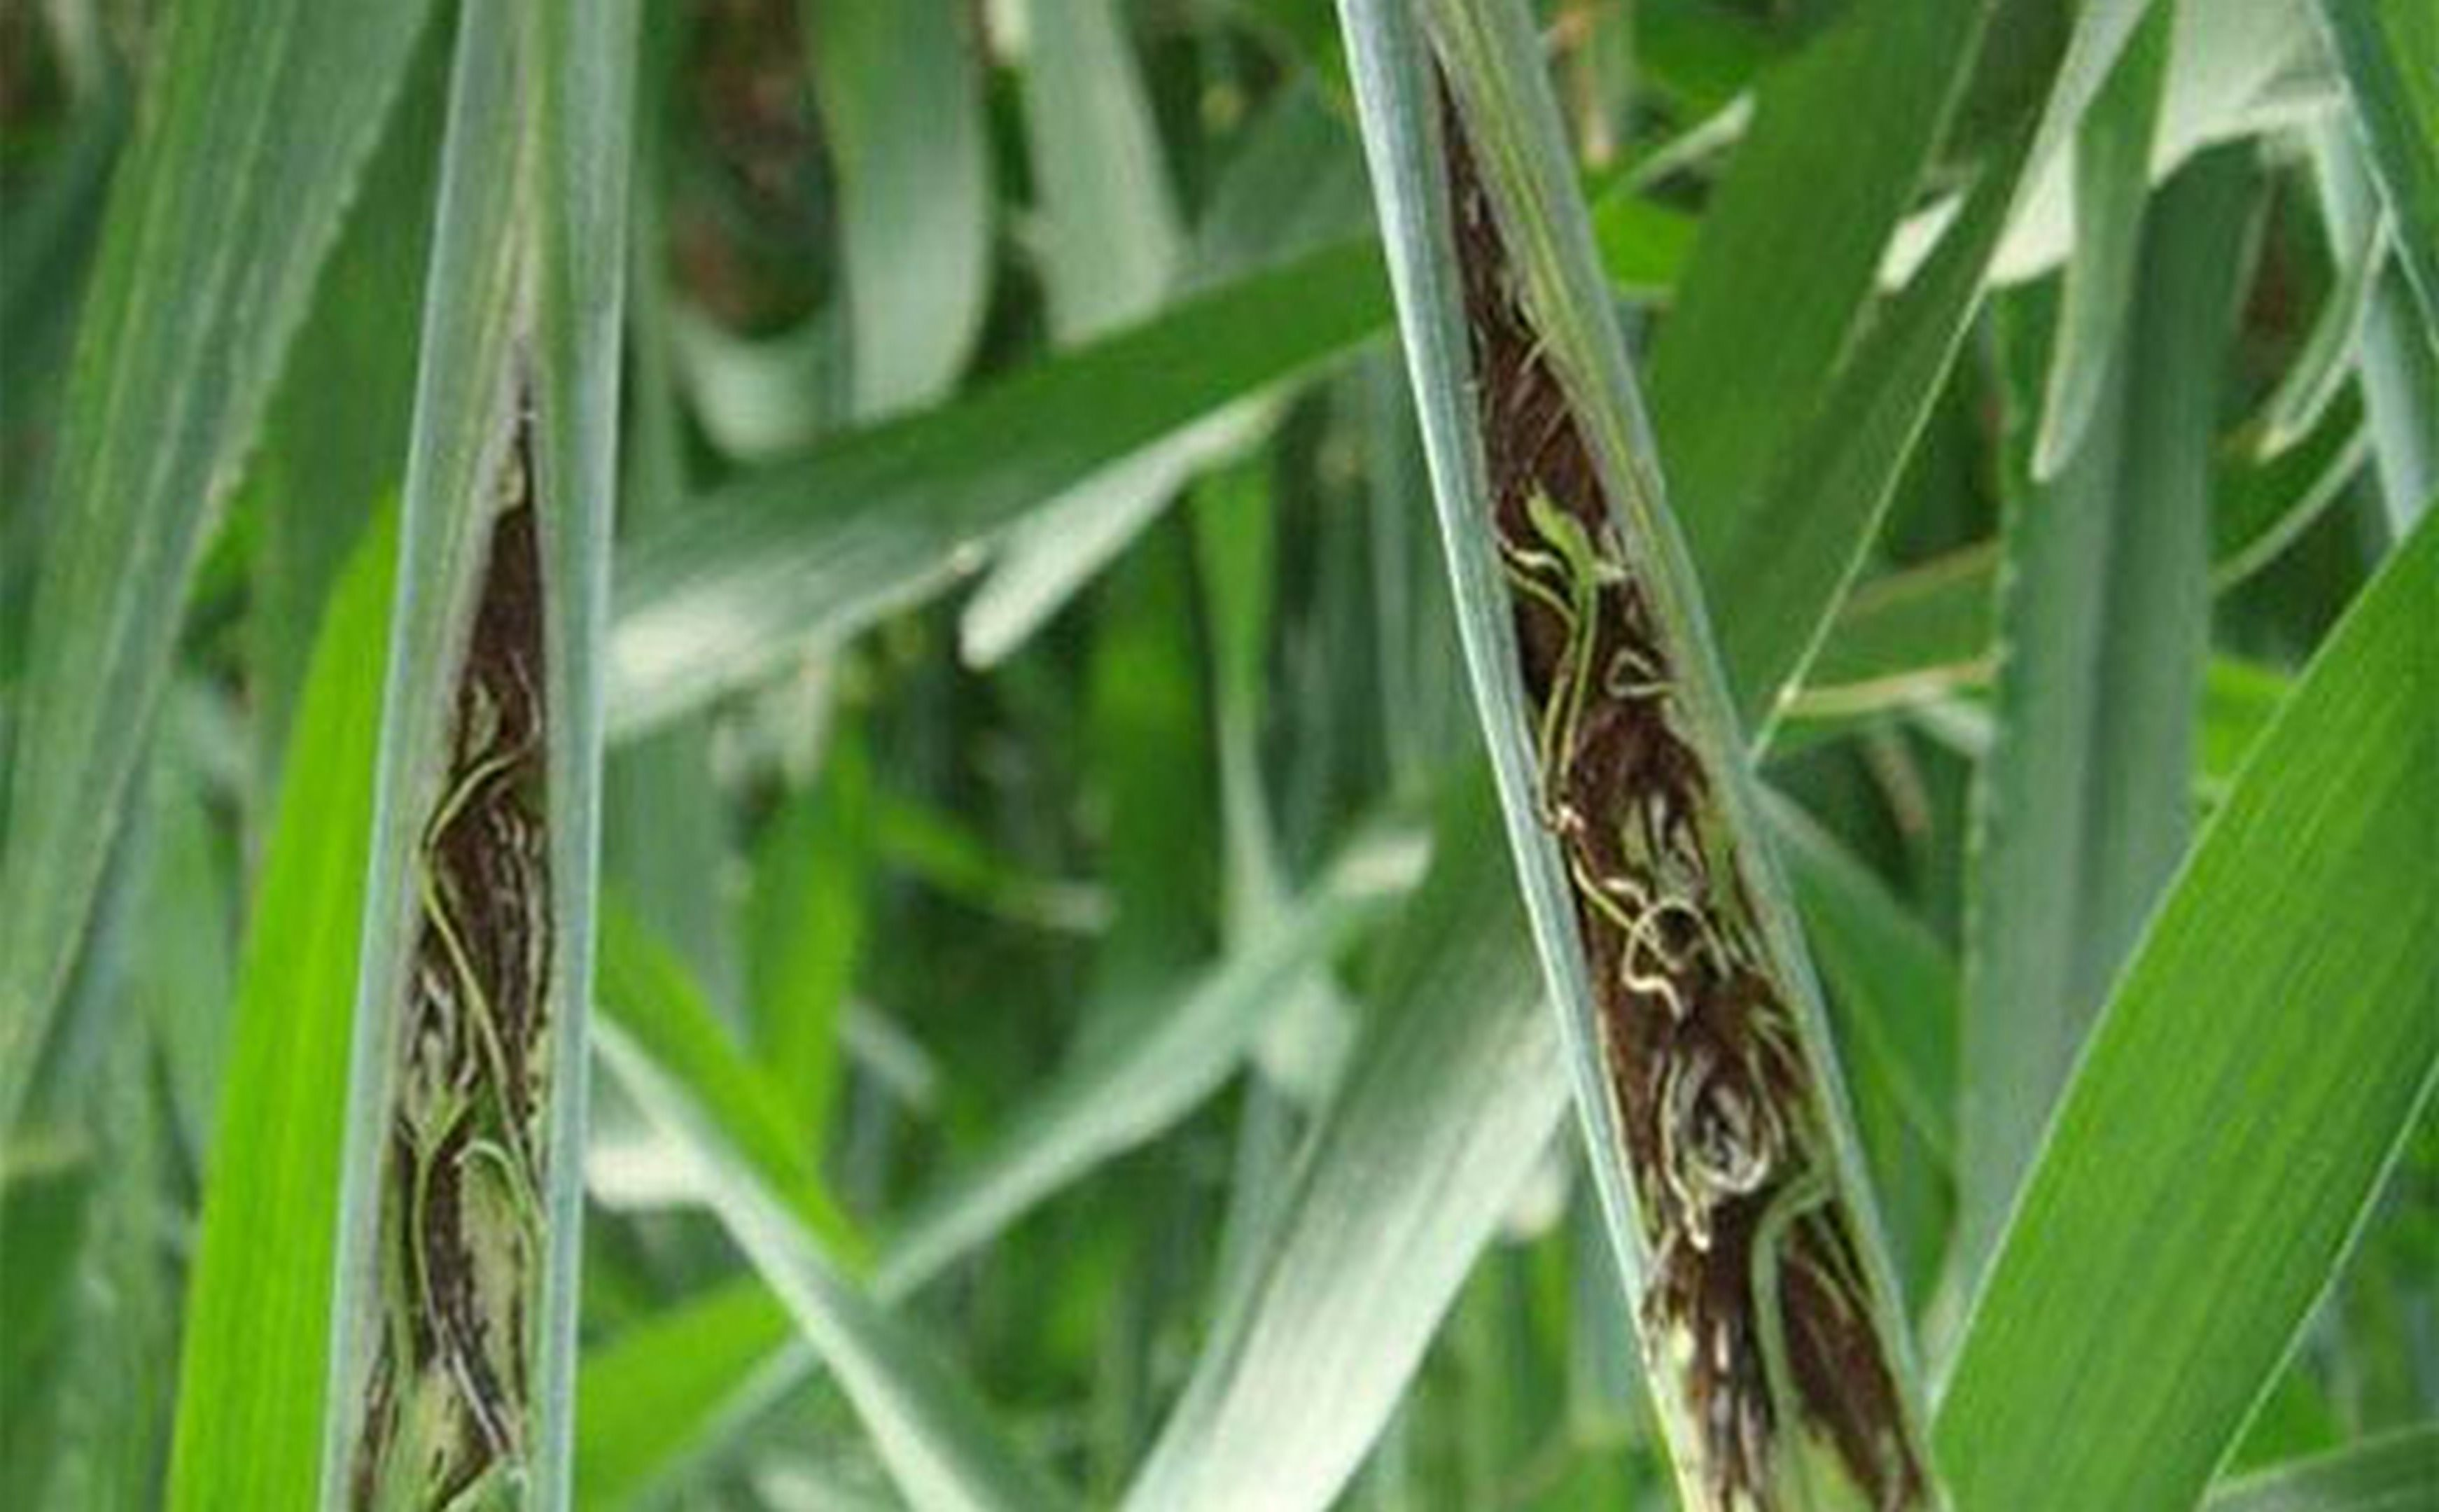Wheat Loose Smut: (1448, 352, 1894, 1453)
